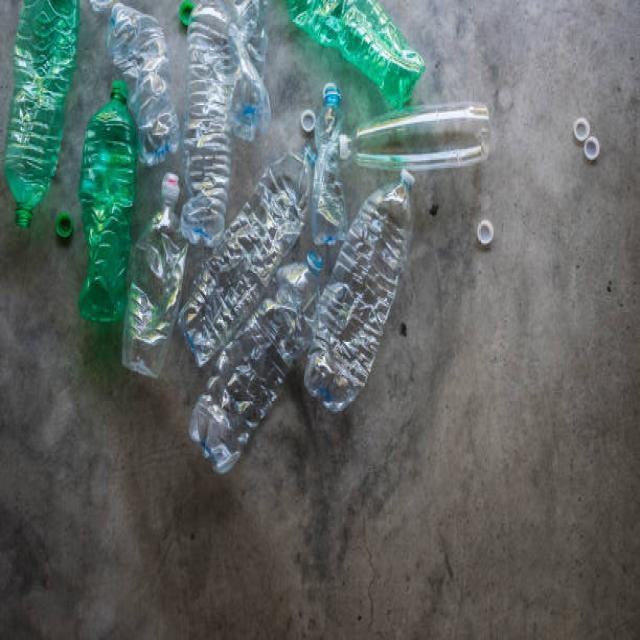plastic: (6, 1, 388, 412)
